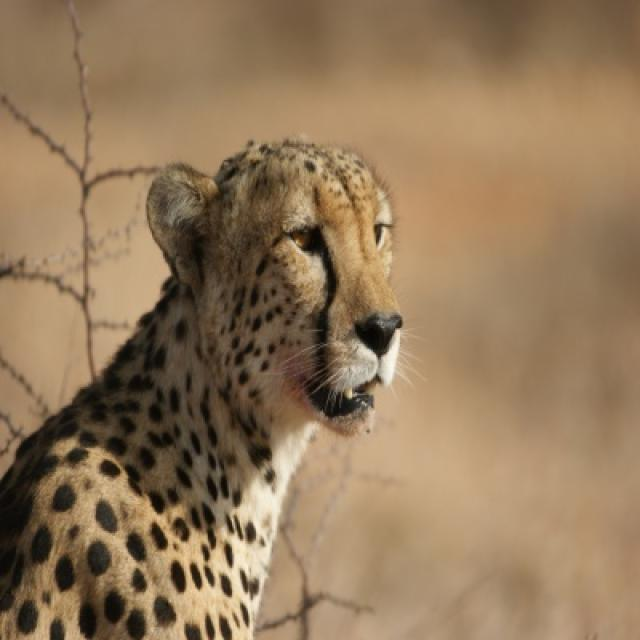Cheetah: (0, 139, 402, 638)
